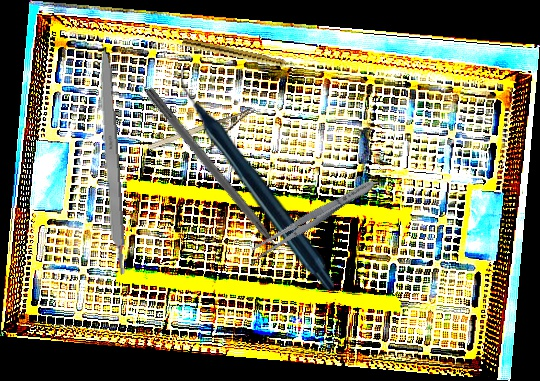Dressing Forceps: (249, 174, 379, 263)
Handpiece: (181, 68, 334, 290), (181, 37, 300, 73)
Needle Holder: (146, 107, 263, 168)
Pusher: (141, 85, 298, 274)
Scalpel Handle: (95, 46, 127, 276)
